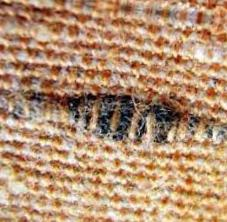slub: (1, 85, 227, 148)
